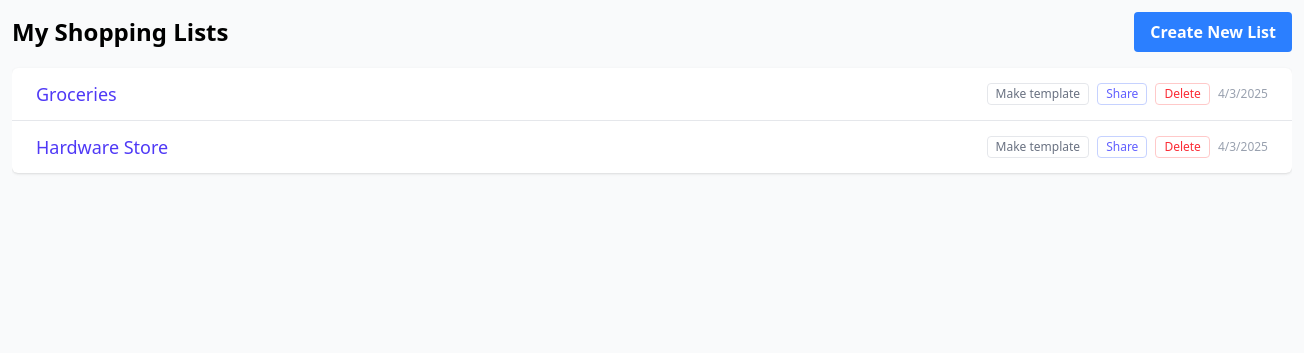
Test case: ShoppingListsPage Component › should successfully add a new shopping list
The width and height of the screenshot is (1304, 353).
Expected: the link "Groceries" is shown, [36, 80, 117, 108]
Click the button "Create New List" at [1213, 32], box [1134, 12, 1292, 52]
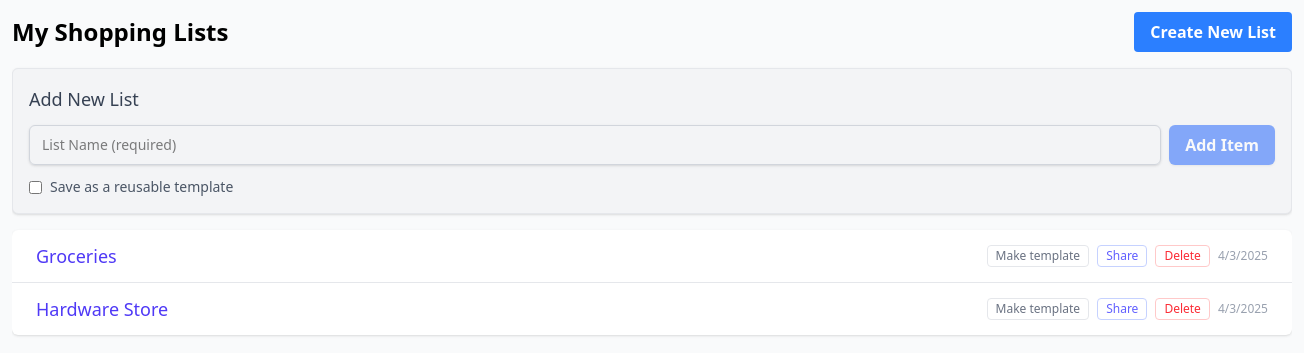
Fill in the form
Type "New Test List" into the field named "New list name" at [595, 145], box [29, 125, 1161, 165]
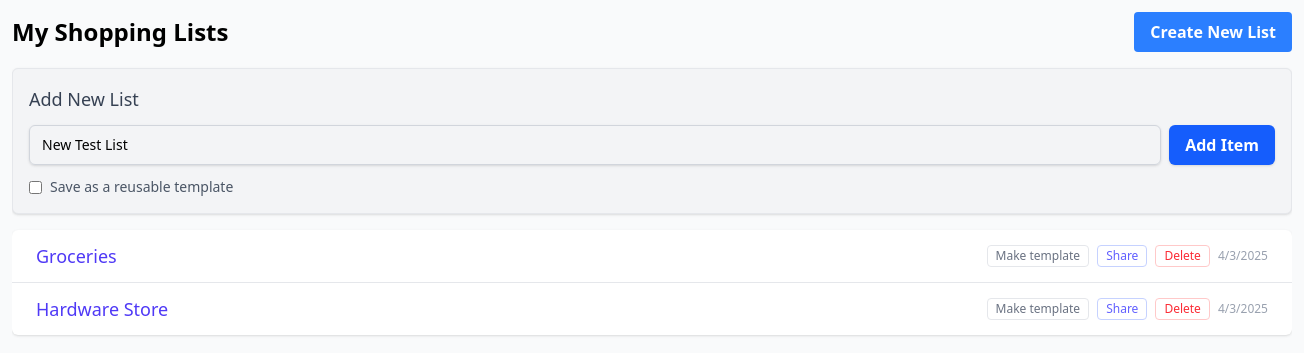
Submit the form
Click the button "Add Item" at [1222, 145], box [1169, 125, 1275, 165]
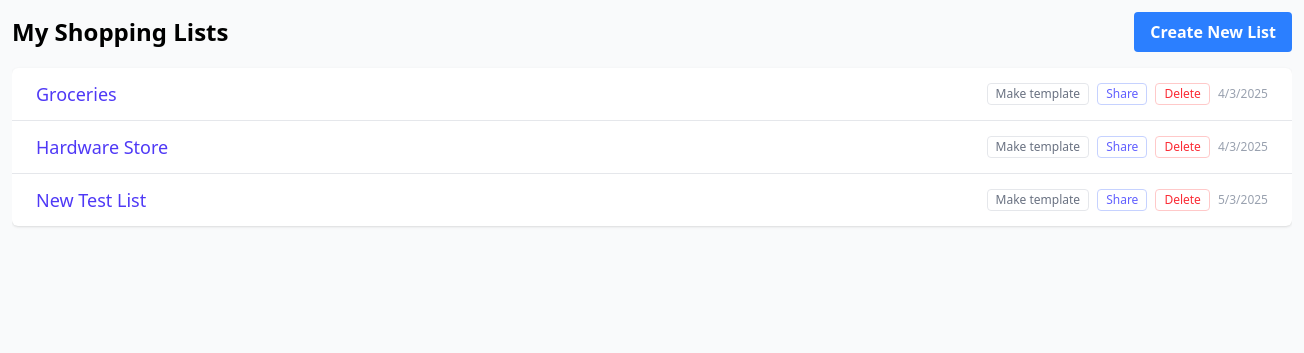
Expected: the link "New Test List" is shown, [36, 186, 146, 214]
Expected: the heading "Add New List" is gone
